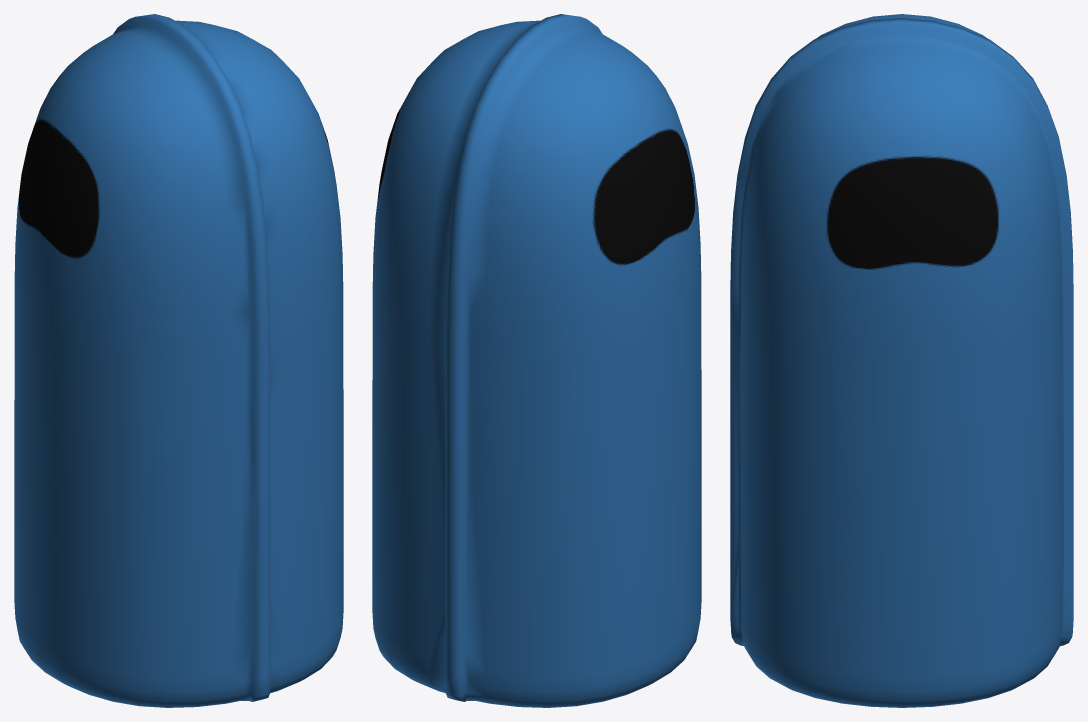
The model's file is Cestino.fbx.
3 renders of one model, left to right at view 1: azimuth 30°, elevation 25°; view 2: azimuth 150°, elevation 25°; view 3: azimuth 270°, elevation 25°, orthographic.
Visible parts, largest first — view 1: Cestino; view 2: Cestino; view 3: Cestino.
Boxes of the visible parts, x1=… form: Cestino: x1=14, y1=14, x2=343, y2=707; Cestino: x1=372, y1=14, x2=701, y2=707; Cestino: x1=730, y1=14, x2=1073, y2=707.
Bounding box in the file's own units: 105 × 223 × 111.
